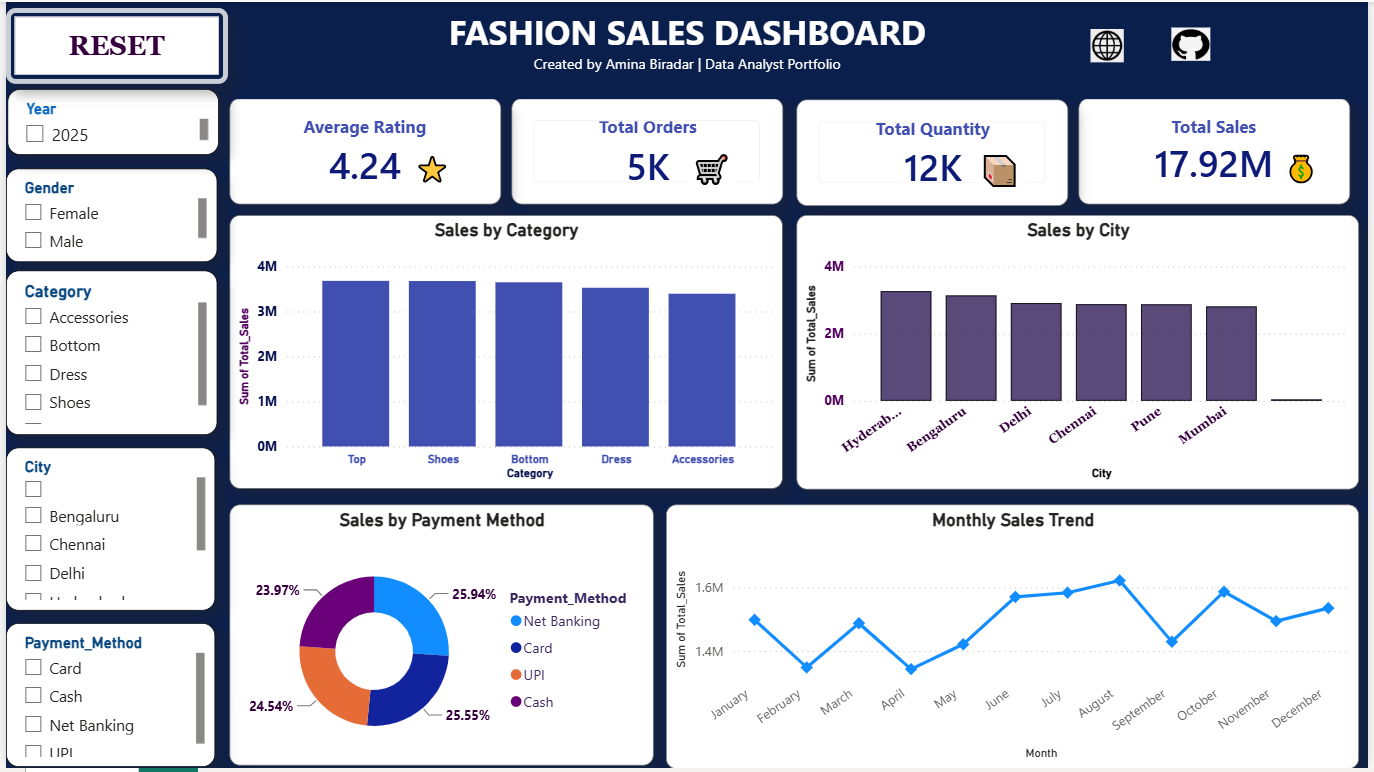

The dashboard page shown, as its layout file describes it:
{"tool":"powerbi","page":{"name":"Page 1","canvas":[1280,720],"ordinal":0},"visuals":[{"type":"cardVisual","title":"TOTAL SALES","fields":{"Data":["fashion_sales.Total Sales"]},"box":[1007.6,90.9,255,100],"z":0},{"type":"cardVisual","fields":{"Data":["fashion_sales.Total Orders"]},"box":[475.8,90.9,255,100],"z":1000},{"type":"cardVisual","fields":{"Data":["fashion_sales.Total Quantity"]},"box":[742.4,91.5,255,100],"z":2000},{"type":"cardVisual","fields":{"Data":["fashion_sales.Average Rating"]},"box":[210.6,90.9,255,100],"z":3000},{"type":"clusteredColumnChart","title":"Sales by Category","fields":{"Category":["fashion_sales.Category"],"Y":["Sum(fashion_sales.Total_Sales)"]},"box":[210.6,200,519.7,257.6],"z":4000},{"type":"clusteredColumnChart","title":"Sales by City","fields":{"Category":["fashion_sales.City"],"Y":["Sum(fashion_sales.Total_Sales)"]},"box":[742.4,200,528.8,257.7],"z":5000},{"type":"donutChart","title":"Sales by Payment Method","fields":{"Category":["fashion_sales.Payment_Method"],"Y":["Sum(fashion_sales.Total_Sales)"]},"box":[210.6,472.7,398.5,245.5],"z":6000},{"type":"lineChart","title":"Monthly Sales Trend","fields":{"Category":["fashion_sales.Order_Date.Variation.Date Hierarchy.Month"],"Y":["Sum(fashion_sales.Total_Sales)"]},"box":[619.7,472.7,651.5,248.5],"z":7000},{"type":"textbox","box":[1.7,0,1278,91.5],"z":8000},{"type":"slicer","fields":{"Values":["fashion_sales.Gender"]},"box":[0,155.9,198.5,87.9],"z":9000},{"type":"slicer","fields":{"Values":["fashion_sales.Category"]},"box":[0,252.5,198.5,154.5],"z":10000},{"type":"slicer","fields":{"Values":["fashion_sales.City"]},"box":[0,418.6,197,153],"z":11000},{"type":"slicer","fields":{"Values":["fashion_sales.Payment_Method"]},"box":[0,583.1,196.6,135.6],"z":12000},{"type":"textbox","box":[379.7,133.9,84.7,47.5],"z":13000},{"type":"textbox","box":[640.7,132.2,45.8,49.2],"z":14000},{"type":"textbox","box":[910.2,133.9,49.2,52.5],"z":15000},{"type":"textbox","box":[1198.3,133.9,44.1,49.2],"z":16000},{"type":"slicer","fields":{"Values":["fashion_sales.Order_Date.Variation.Date Hierarchy.Year"]},"box":[1.7,81.4,198.5,62.1],"z":17000},{"type":"actionButton","box":[0,5.1,208.5,71.2],"z":18000},{"type":"image","box":[1008.1,23.4,42,31.6],"z":19000},{"type":"image","box":[1093.2,23.7,42.1,31.6],"z":20000}]}

Visuals, with their boxes in screenshot pixels (x1, y1, x2, y2), scaled from the page's 1280x720 canvas onto the 1374x772 screenshot:
"TOTAL SALES" cardVisual: {"x1": 1082, "y1": 97, "x2": 1355, "y2": 205}
cardVisual - fashion_sales.Total Orders: {"x1": 511, "y1": 97, "x2": 784, "y2": 205}
cardVisual - fashion_sales.Total Quantity: {"x1": 797, "y1": 98, "x2": 1071, "y2": 205}
cardVisual - fashion_sales.Average Rating: {"x1": 226, "y1": 97, "x2": 500, "y2": 205}
"Sales by Category" clusteredColumnChart: {"x1": 226, "y1": 214, "x2": 784, "y2": 491}
"Sales by City" clusteredColumnChart: {"x1": 797, "y1": 214, "x2": 1365, "y2": 491}
"Sales by Payment Method" donutChart: {"x1": 226, "y1": 507, "x2": 654, "y2": 770}
"Monthly Sales Trend" lineChart: {"x1": 665, "y1": 507, "x2": 1365, "y2": 771}
textbox: {"x1": 2, "y1": 0, "x2": 1373, "y2": 98}
slicer - fashion_sales.Gender: {"x1": 0, "y1": 167, "x2": 213, "y2": 261}
slicer - fashion_sales.Category: {"x1": 0, "y1": 271, "x2": 213, "y2": 436}
slicer - fashion_sales.City: {"x1": 0, "y1": 449, "x2": 211, "y2": 613}
slicer - fashion_sales.Payment_Method: {"x1": 0, "y1": 625, "x2": 211, "y2": 771}
textbox: {"x1": 408, "y1": 144, "x2": 499, "y2": 195}
textbox: {"x1": 688, "y1": 142, "x2": 737, "y2": 195}
textbox: {"x1": 977, "y1": 144, "x2": 1030, "y2": 200}
textbox: {"x1": 1286, "y1": 144, "x2": 1334, "y2": 196}
slicer - fashion_sales.Order_Date.Variation.Date Hierarchy.Year: {"x1": 2, "y1": 87, "x2": 215, "y2": 154}
actionButton: {"x1": 0, "y1": 5, "x2": 224, "y2": 82}
image: {"x1": 1082, "y1": 25, "x2": 1127, "y2": 59}
image: {"x1": 1173, "y1": 25, "x2": 1219, "y2": 59}
